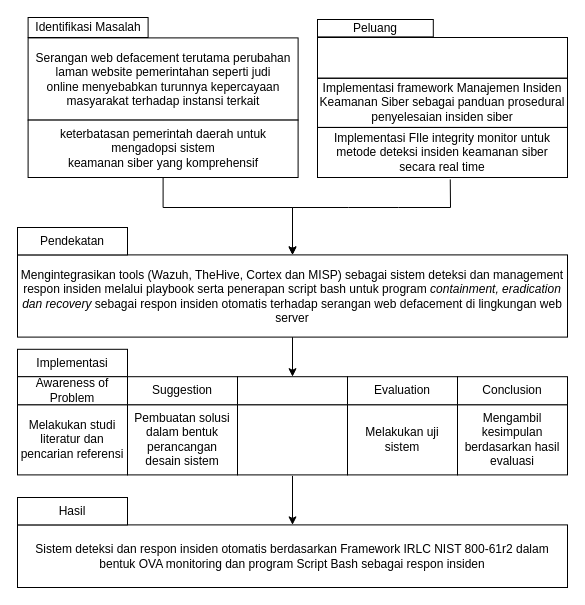
Image size: 585x605. Some labels were removed from this diagram. Each missing label, with the centre of its shape:
Development: point (292, 390)
Implementasi platform SIRP berbasis open source sebagai alat respon insiden: point (442, 57)
Membangun sistem yang telah dirancang: point (292, 439)
